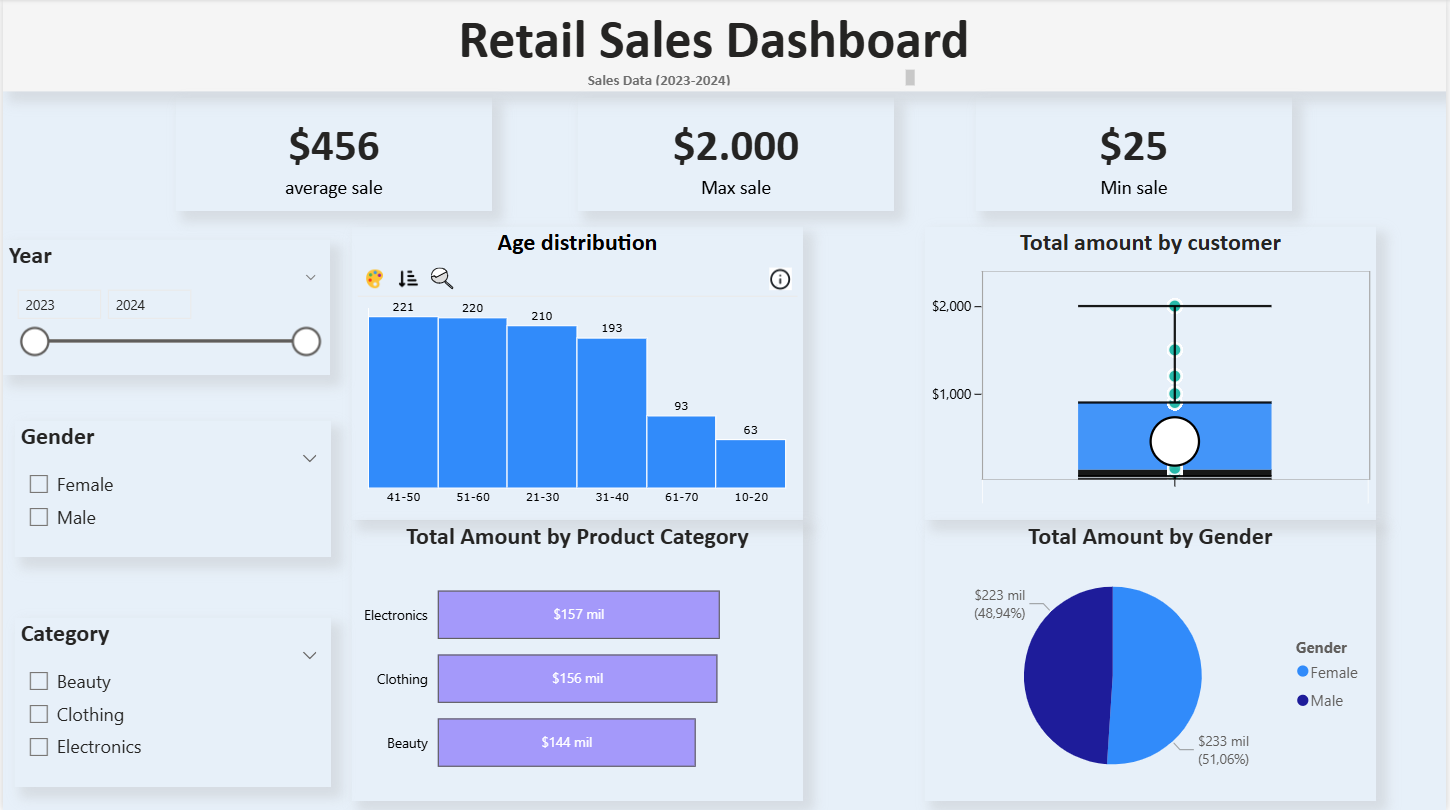

The dashboard page shown, as its layout file describes it:
{"tool":"powerbi","page":{"name":"Página 1","canvas":[1280,720],"ordinal":0},"visuals":[{"type":"shape","box":[0,0,1280,82],"z":0},{"type":"histogramF963F133BA02A0B35D286F09F80E9C78","title":"Age distribution","fields":{"col_2":["retail_sales_dataset__2.Age group"],"col_3":["retail_sales_dataset__2.Customer ID"]},"box":[309.6,202.4,400,260],"z":1000},{"type":"BoxandWhiskerByMAQ1823AD39DT234AB532063E128AX","title":"Total amount by customer","fields":{"category":["retail_sales_dataset__2.Customer ID"],"measure":["Sum(retail_sales_dataset__2.Total Amount)"]},"box":[817.6,202.4,400,260],"z":2000},{"type":"clusteredBarChart","title":"Total Amount by Product Category","fields":{"Category":["retail_sales_dataset__2.Product Category"],"Y":["Sum(retail_sales_dataset__2.Total Amount)"]},"box":[309.8,463.1,399.7,248.4],"z":3000},{"type":"pieChart","title":"Total Amount by Gender","fields":{"Category":["retail_sales_dataset__2.Gender"],"Y":["Sum(retail_sales_dataset__2.Total_amount)"]},"box":[817.9,463.1,399.7,248.4],"z":4000},{"type":"card","fields":{"Values":["retail_sales_dataset__2.average sale"]},"box":[153.8,88,280,100],"z":5000},{"type":"card","fields":{"Values":["retail_sales_dataset__2.Max sale"]},"box":[510,88,280,100],"z":6000},{"type":"card","fields":{"Values":["retail_sales_dataset__2.Min sale"]},"box":[863.1,88,280,100],"z":7000},{"type":"slicer","title":"Year","fields":{"Values":["Calendario.Año"]},"box":[0,213.7,290.4,119.6],"z":8000},{"type":"slicer","title":"Gender","fields":{"Values":["retail_sales_dataset__2.Gender"]},"box":[10.2,374.2,280.1,120.6],"z":9000},{"type":"slicer","title":"Category","fields":{"Values":["retail_sales_dataset__2.Product Category"]},"box":[10.2,549,280.1,150.3],"z":10000},{"type":"textbox","box":[10.1,0,1241.5,74.9],"z":11000},{"type":"textbox","box":[513,57.7,299.5,24.3],"z":12000}]}

Visuals, with their boxes in screenshot pixels (x1, y1, x2, y2), scaled from the page's 1280x720 canvas onto the 1450x810 screenshot:
shape: [x1=0, y1=0, x2=1449, y2=92]
"Age distribution" histogramF963F133BA02A0B35D286F09F80E9C78: [x1=351, y1=228, x2=804, y2=520]
"Total amount by customer" BoxandWhiskerByMAQ1823AD39DT234AB532063E128AX: [x1=926, y1=228, x2=1379, y2=520]
"Total Amount by Product Category" clusteredBarChart: [x1=351, y1=521, x2=804, y2=800]
"Total Amount by Gender" pieChart: [x1=927, y1=521, x2=1379, y2=800]
card - retail_sales_dataset__2.average sale: [x1=174, y1=99, x2=491, y2=212]
card - retail_sales_dataset__2.Max sale: [x1=578, y1=99, x2=895, y2=212]
card - retail_sales_dataset__2.Min sale: [x1=978, y1=99, x2=1295, y2=212]
"Year" slicer: [x1=0, y1=240, x2=329, y2=375]
"Gender" slicer: [x1=12, y1=421, x2=329, y2=557]
"Category" slicer: [x1=12, y1=618, x2=329, y2=787]
textbox: [x1=11, y1=0, x2=1418, y2=84]
textbox: [x1=581, y1=65, x2=920, y2=92]
